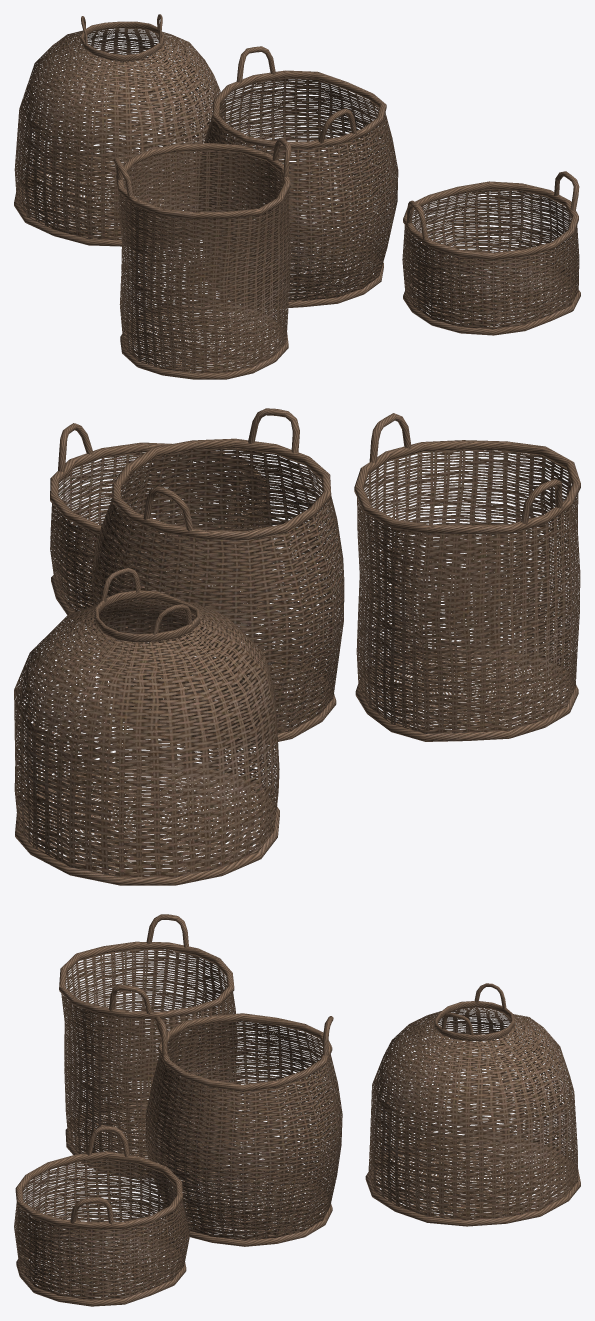
File: s_cestos.glb
3 views of the same model, one above another, from view 1: azimuth 30°, elevation 25°; view 2: azimuth 150°, elevation 25°; view 3: azimuth 270°, elevation 25° (orthographic). The views are drawn at different scales.
Visible parts, largest first — view 1: Wicker_basket_01_Side_0; view 2: Wicker_basket_01_Side_0; view 3: Wicker_basket_01_Side_0.
Boxes of the visible parts, left/top/right/bottom form: Wicker_basket_01_Side_0: left=14, top=14, right=580, bottom=379; Wicker_basket_01_Side_0: left=14, top=408, right=580, bottom=885; Wicker_basket_01_Side_0: left=14, top=914, right=580, bottom=1306.
Bounding box in the file's own units: 0.5055 × 0.2265 × 0.6.
Materials: 3 (3 with a texture image).
